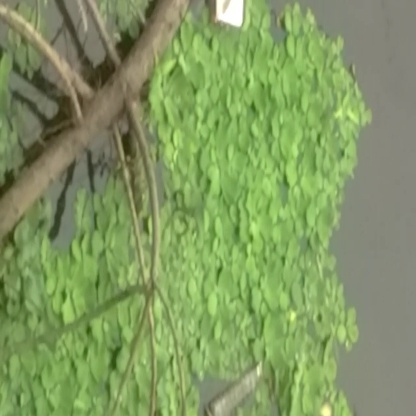branch: (3, 1, 193, 244)
